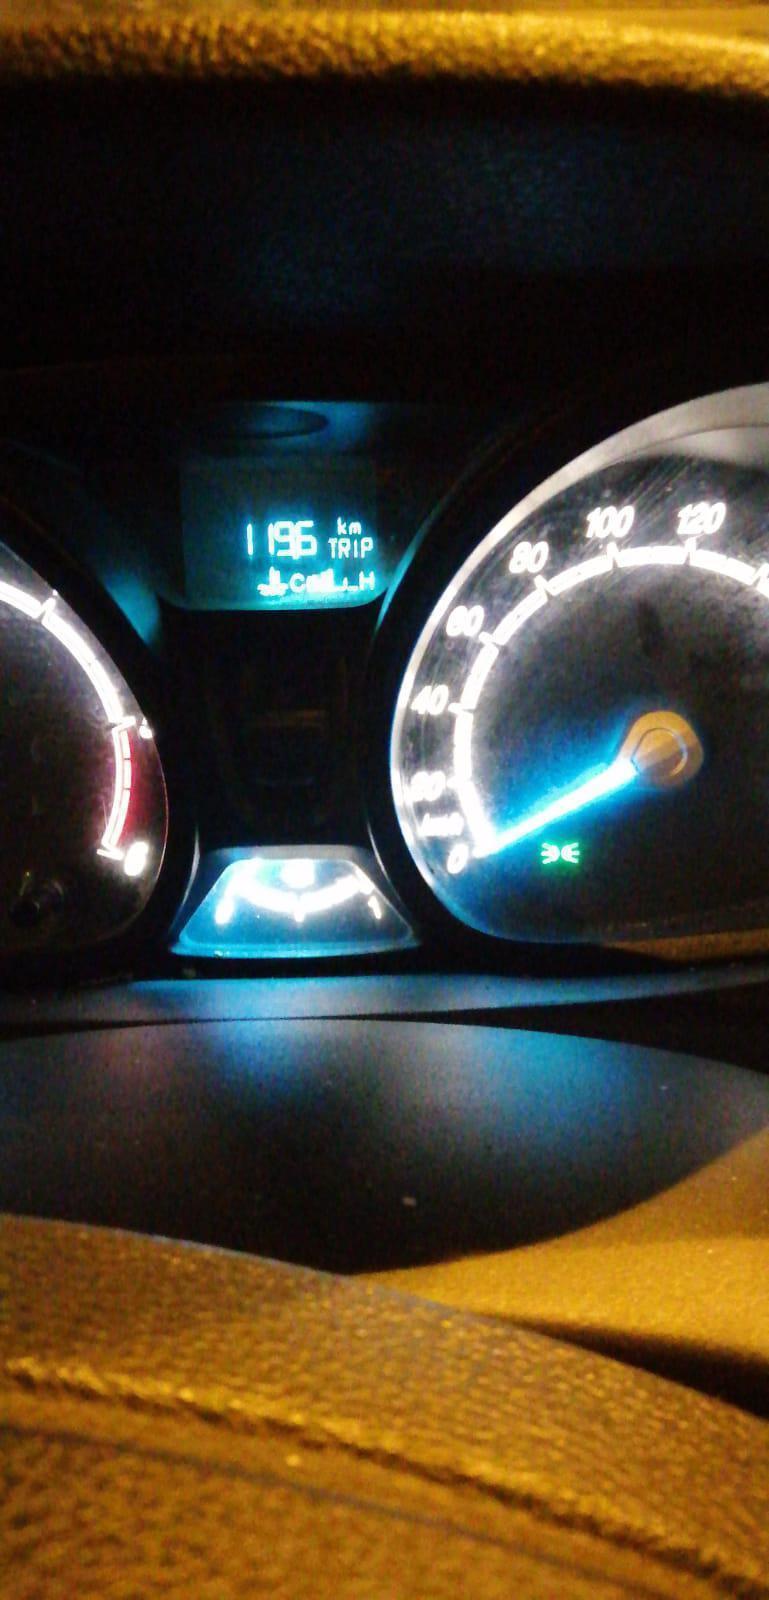,: (292, 552, 301, 561)
1: (243, 521, 257, 560), (263, 521, 275, 560)
6: (296, 519, 320, 556)
9: (274, 519, 295, 557)
X: (358, 567, 376, 593), (288, 570, 306, 595), (360, 535, 376, 560), (337, 536, 351, 560), (325, 535, 337, 560), (334, 515, 347, 535), (348, 519, 362, 534), (352, 536, 359, 560)
odometer: (189, 489, 405, 607)
